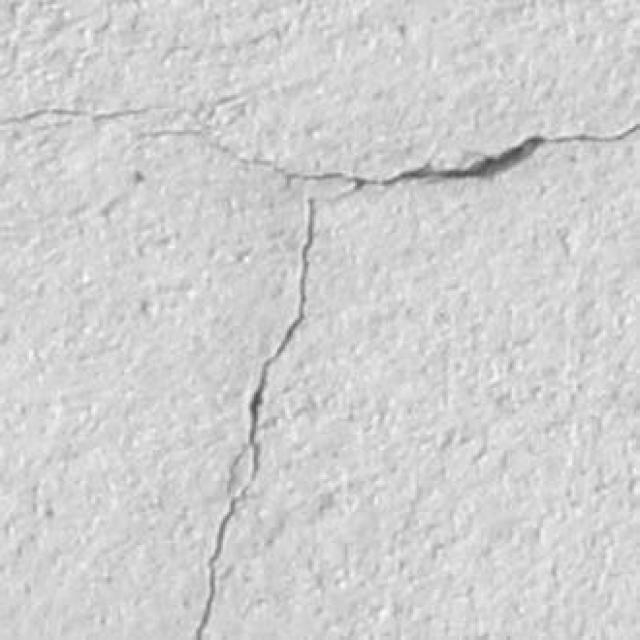crack: (194, 200, 316, 639), (140, 123, 639, 193), (0, 107, 168, 127)
